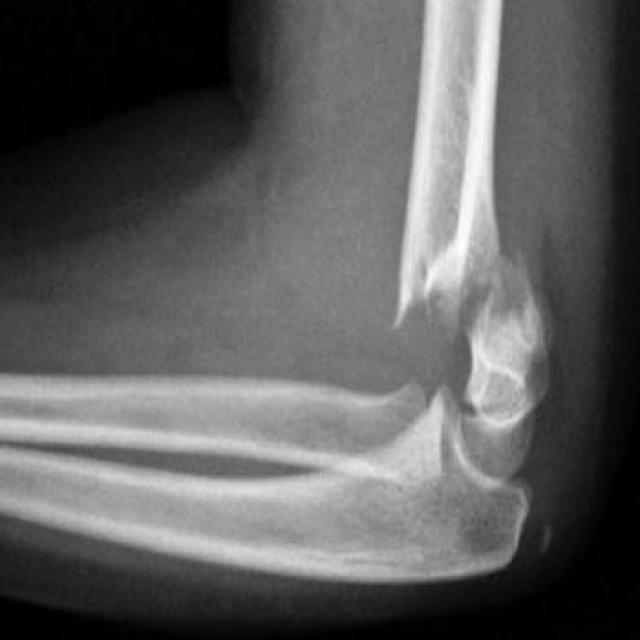Fracture: (385, 268, 495, 432)
